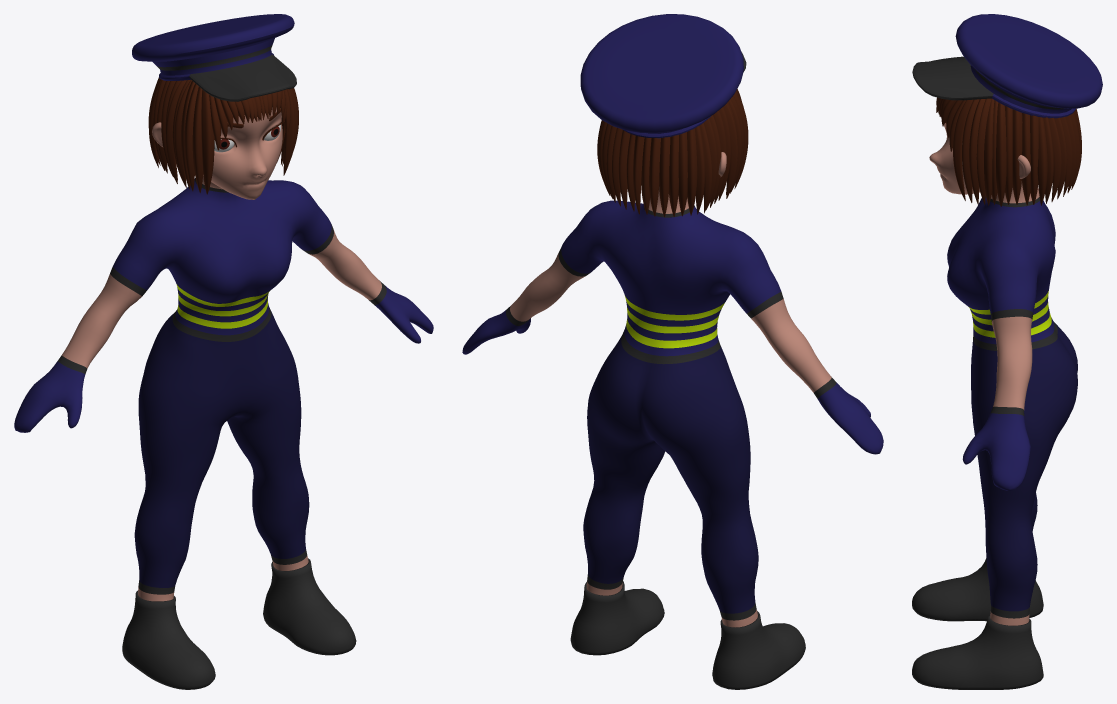
File: femaleCop.fbx
The picture shows the model from 3 angles, left to right: view 1: azimuth 30°, elevation 25°; view 2: azimuth 150°, elevation 25°; view 3: azimuth 270°, elevation 25°; orthographic projection.
Visible parts, largest first — view 1: body, shoes, cap, Retopo_hair, head; view 2: body, cap, Retopo_hair, shoes; view 3: body, cap, Retopo_hair, shoes, head.
Boxes of the visible parts, x1,y1,x2,y2 form: body: (14, 178, 433, 601); shoes: (122, 558, 356, 689); cap: (132, 14, 296, 101); Retopo_hair: (148, 77, 298, 194); head: (152, 107, 284, 199); body: (462, 200, 883, 627); cap: (580, 14, 746, 138); Retopo_hair: (597, 89, 748, 216); shoes: (570, 581, 805, 689); body: (947, 197, 1077, 625); cap: (912, 14, 1102, 118); Retopo_hair: (936, 97, 1081, 206); shoes: (912, 558, 1043, 689); head: (929, 120, 1039, 207).
Bounding box in the file's own units: 81.72 × 117 × 33.1.
